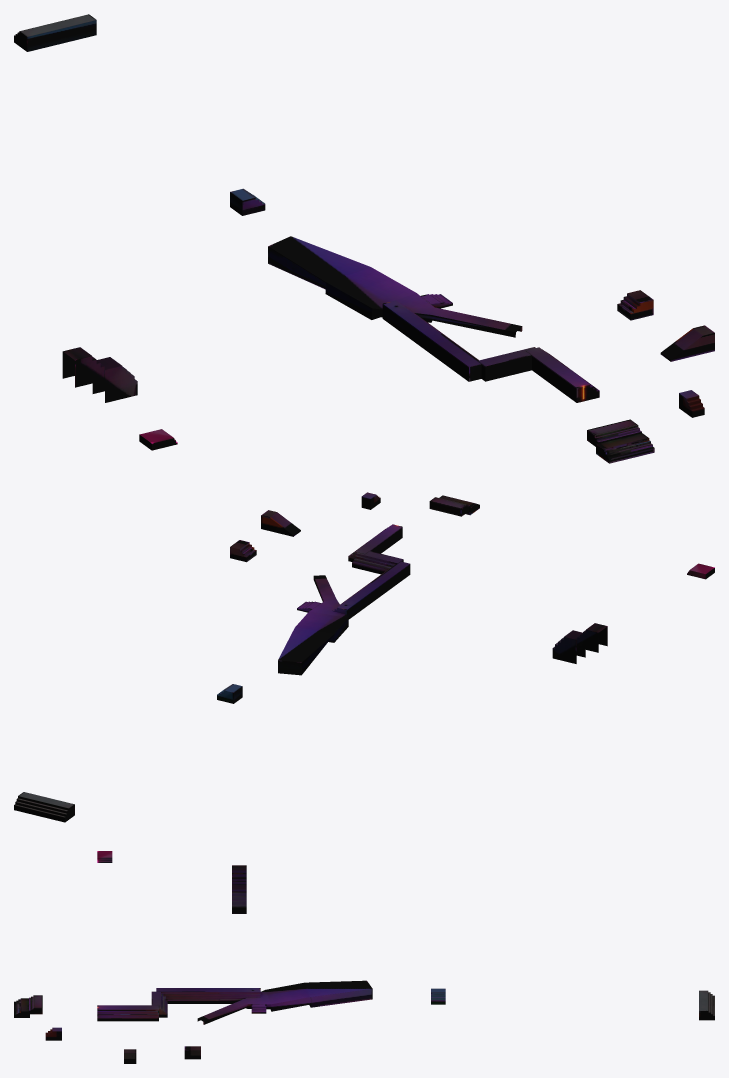
Rendered from Steps-transformed.glb.
3 views of the same model, one above another, from view 1: azimuth 30°, elevation 25°; view 2: azimuth 150°, elevation 25°; view 3: azimuth 270°, elevation 25° (orthographic). The views are drawn at different scales.
Parts seen in each view (by area): view 1: Cube, Cube.254, Cube.435, Cube.272, Cube.409, Cube.410, Cube.583, Cube.271, Cube.284, Cube.009, Cube.003; view 2: Cube, Cube.254, Cube.435, Cube.272, Cube.271, Cube.409, Cube.410, Cube.583; view 3: Cube, Cube.254, Cube.272, Cube.435, Cube.409.
Boxes of the visible parts, box(x1,y1,x2,y2) form: Cube: box(268, 236, 522, 337); Cube.254: box(382, 300, 481, 381); Cube.435: box(14, 14, 96, 51); Cube.272: box(526, 347, 599, 402); Cube.409: box(92, 357, 137, 402); Cube.410: box(62, 347, 104, 387); Cube.583: box(660, 325, 714, 361); Cube.271: box(478, 347, 535, 381); Cube.284: box(596, 433, 654, 463); Cube.009: box(587, 419, 641, 446); Cube.003: box(617, 290, 653, 320); Cube: box(278, 575, 348, 675); Cube.254: box(332, 561, 410, 619); Cube.435: box(14, 792, 74, 822); Cube.272: box(348, 524, 402, 561); Cube.271: box(352, 551, 403, 574); Cube.409: box(552, 630, 585, 663); Cube.410: box(577, 623, 607, 652); Cube.583: box(261, 510, 300, 536); Cube: box(197, 980, 372, 1024); Cube.254: box(156, 988, 260, 1003); Cube.272: box(97, 1005, 158, 1021); Cube.435: box(699, 990, 714, 1020); Cube.409: box(232, 884, 246, 913).
Size of the model in its own units: 2604 by 284 by 4469.
1 material, 1 textured.
